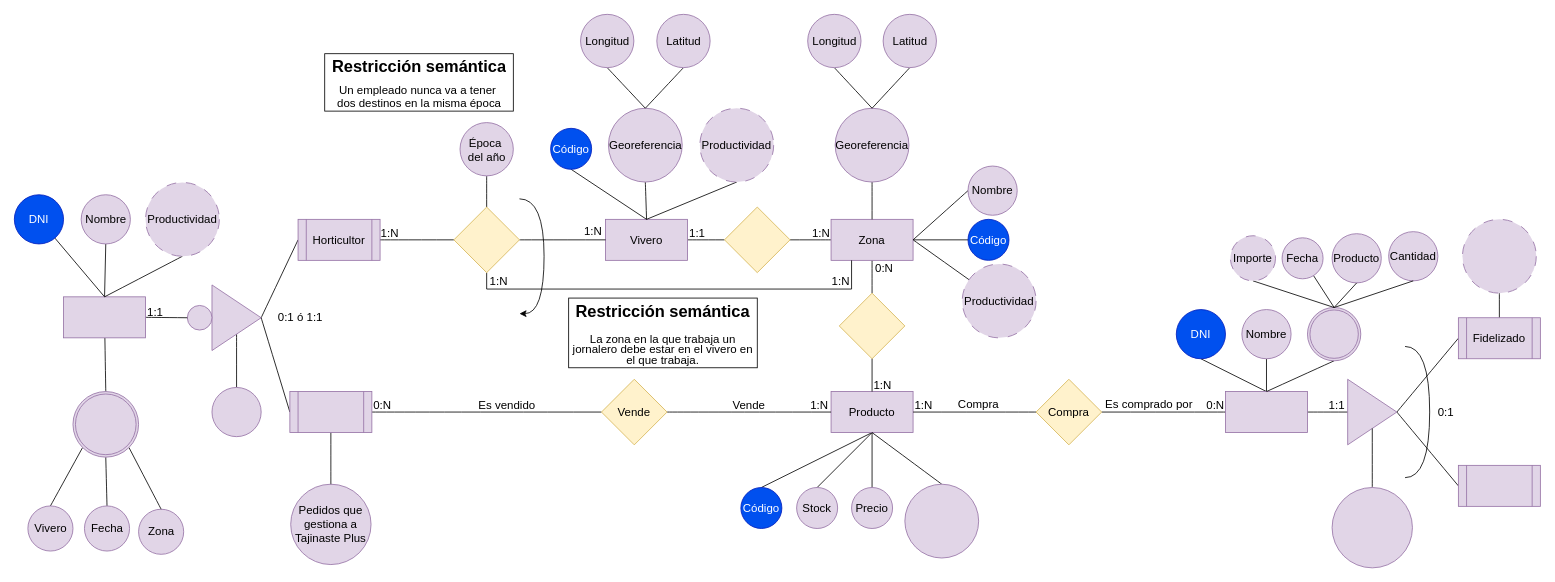
The diagram is 1555 pixels wide and 582 high, and some of its shapes have lost their labels. Each missing label, with the box of its shape:
Bonificaciones: (1462, 219, 1536, 293)
Cliente: (1225, 391, 1307, 433)
Destinado: (453, 206, 519, 273)
Disponibilidad: (904, 483, 979, 558)
Empleado: (63, 296, 146, 338)
Forma parte del programa Tajinaste Plus: (1331, 487, 1412, 568)
Función: (211, 387, 261, 437)
Historial: (72, 391, 139, 457)
Pedidos: (1307, 307, 1361, 361)
Se asigna: (838, 292, 905, 359)
Se divide: (724, 206, 790, 273)
Sin fidelizar: (1458, 465, 1540, 506)
Vendedor: (289, 391, 372, 433)
